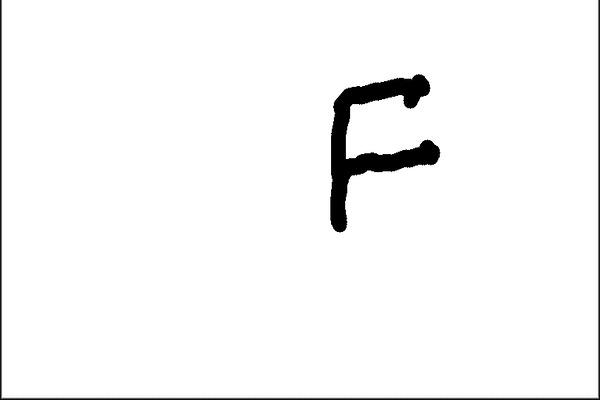F: (321, 67, 442, 235)
